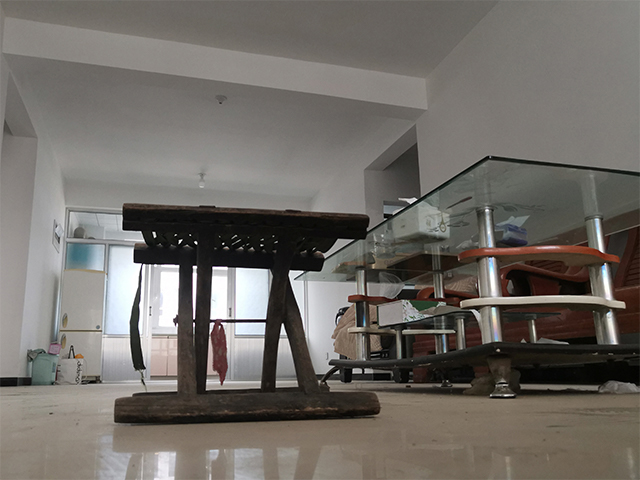stool: (113, 200, 384, 425)
table: (291, 151, 640, 400)
trashcan: (30, 350, 59, 387)
